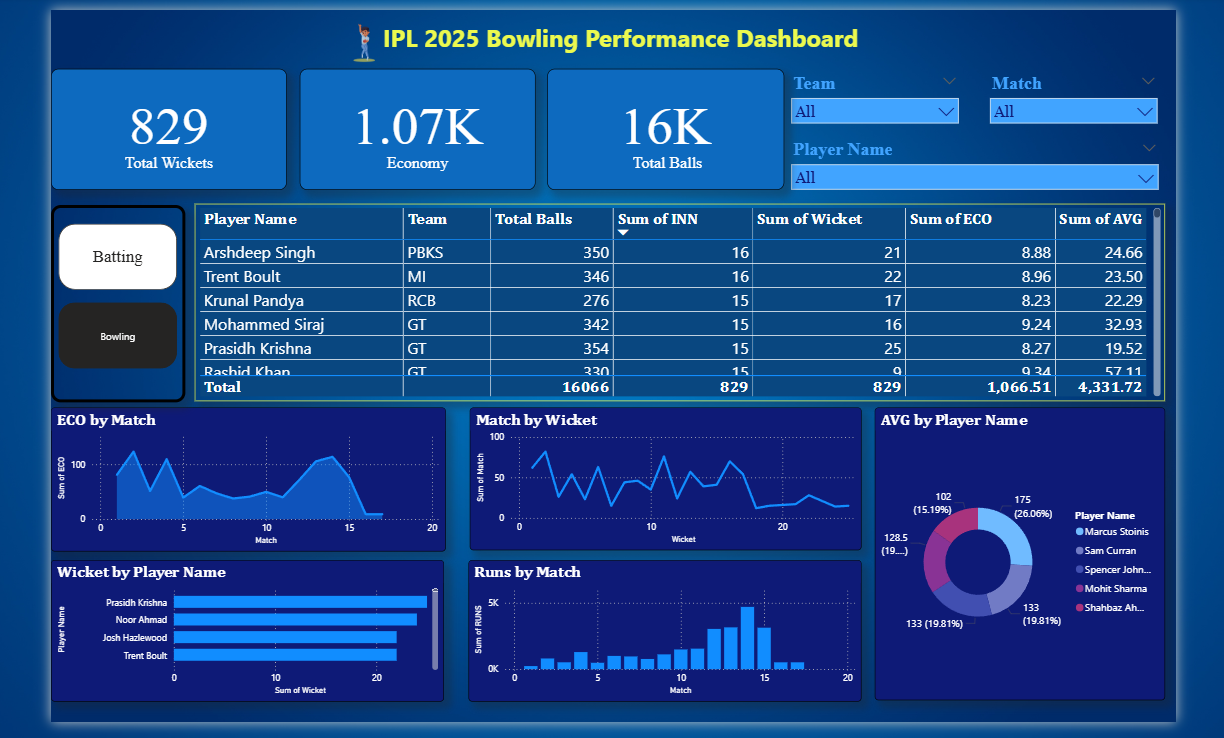

The dashboard page shown, as its layout file describes it:
{"tool":"powerbi","page":{"name":"Bowling","canvas":[1500,950],"ordinal":1},"visuals":[{"type":"tableEx","fields":{"Values":["IPL2025Bowlers.Player Name","IPL2025Bowlers.Team","Sum(IPL2025Bowlers.Total Balls)","Sum(IPL2025Bowlers.INN)","Sum(IPL2025Bowlers.Wicket)","Sum(IPL2025Bowlers.ECO)","Sum(IPL2025Bowlers.AVG)"]},"box":[192,258.2,1294,263],"z":0},{"type":"textbox","box":[416.3,9.7,685.7,56.5],"z":1000},{"type":"slicer","fields":{"Values":["IPL2025Bowlers.Team"]},"box":[976.1,79.1,243.6,87.1],"z":2000},{"type":"slicer","fields":{"Values":["IPL2025Bowlers.Player Name"]},"box":[976.1,166.2,509.9,92],"z":3000},{"type":"card","fields":{"Values":["Sum(IPL2025Bowlers.Wicket)"]},"box":[0,79.1,314.6,161.3],"z":4000},{"type":"card","fields":{"Values":["Sum(IPL2025Bowlers.ECO)"]},"box":[332.4,79.1,314.6,161.3],"z":5000},{"type":"card","fields":{"Values":["Sum(IPL2025Bowlers.Total Balls)"]},"box":[661.5,79.1,316.2,161.3],"z":6000},{"type":"areaChart","title":" ECO by Match","fields":{"Category":["IPL2025Bowlers.Match"],"Y":["Sum(IPL2025Bowlers.ECO)"]},"box":[0,530.8,526,192],"z":7000},{"type":"columnChart","title":"Runs by Match","fields":{"Category":["IPL2025Bowlers.Match"],"Y":["Sum(IPL2025Bowlers.RUNS)"]},"box":[556.6,732.5,524.4,188.8],"z":8000},{"type":"clusteredBarChart","title":" Wicket by Player Name","fields":{"Category":["IPL2025Bowlers.Player Name"],"Y":["Sum(IPL2025Bowlers.Wicket)"]},"box":[0,732.5,524.4,188.8],"z":9000},{"type":"lineChart","title":" Match by Wicket","fields":{"Y":["Sum(IPL2025Bowlers.Match)"],"Category":["IPL2025Bowlers.Wicket"]},"box":[558.3,530.8,522.8,190.4],"z":10000},{"type":"slicer","fields":{"Values":["IPL2025Bowlers.Match"]},"box":[1242.4,79.1,243.6,80.7],"z":11000},{"type":"textbox","box":[1185.9,9.7,300.1,56.5],"z":12000},{"type":"pageNavigator","box":[9.7,285.6,158.1,88.7],"z":13000},{"type":"shape","box":[0,259.8,179.1,263],"z":14000},{"type":"pageNavigator","box":[9.7,390.5,158.1,88.7],"z":15000},{"type":"image","box":[371.1,8.1,92,71],"z":16000},{"type":"donutChart","title":" AVG by Player Name","fields":{"Category":["IPL2025Bowlers.Player Name"],"Y":["Sum(IPL2025Bowlers.AVG)"]},"box":[1098.8,530.8,387.2,390.5],"z":17000}]}

Visuals, with their boxes on the page's 1500x950 design canvas (x1, y1, x2, y2). These are canvas units, not pixel positions in the 1224x738 screenshot, which may show the page scaled, cropped or inside an application window:
tableEx - IPL2025Bowlers.Player Name x IPL2025Bowlers.Team: {"x1": 192, "y1": 258, "x2": 1486, "y2": 521}
textbox: {"x1": 416, "y1": 10, "x2": 1102, "y2": 66}
slicer - IPL2025Bowlers.Team: {"x1": 976, "y1": 79, "x2": 1220, "y2": 166}
slicer - IPL2025Bowlers.Player Name: {"x1": 976, "y1": 166, "x2": 1486, "y2": 258}
card - Sum(IPL2025Bowlers.Wicket): {"x1": 0, "y1": 79, "x2": 315, "y2": 240}
card - Sum(IPL2025Bowlers.ECO): {"x1": 332, "y1": 79, "x2": 647, "y2": 240}
card - Sum(IPL2025Bowlers.Total Balls): {"x1": 662, "y1": 79, "x2": 978, "y2": 240}
" ECO by Match" areaChart: {"x1": 0, "y1": 531, "x2": 526, "y2": 723}
"Runs by Match" columnChart: {"x1": 557, "y1": 732, "x2": 1081, "y2": 921}
" Wicket by Player Name" clusteredBarChart: {"x1": 0, "y1": 732, "x2": 524, "y2": 921}
" Match by Wicket" lineChart: {"x1": 558, "y1": 531, "x2": 1081, "y2": 721}
slicer - IPL2025Bowlers.Match: {"x1": 1242, "y1": 79, "x2": 1486, "y2": 160}
textbox: {"x1": 1186, "y1": 10, "x2": 1486, "y2": 66}
pageNavigator: {"x1": 10, "y1": 286, "x2": 168, "y2": 374}
shape: {"x1": 0, "y1": 260, "x2": 179, "y2": 523}
pageNavigator: {"x1": 10, "y1": 390, "x2": 168, "y2": 479}
image: {"x1": 371, "y1": 8, "x2": 463, "y2": 79}
" AVG by Player Name" donutChart: {"x1": 1099, "y1": 531, "x2": 1486, "y2": 921}
